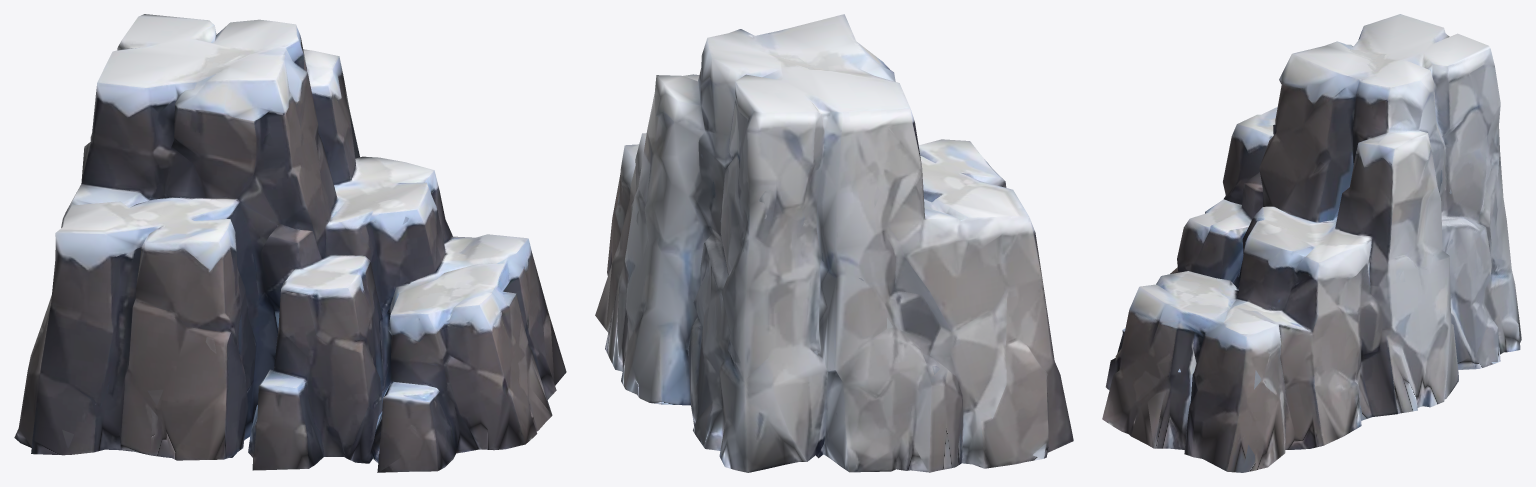
File: cliff_mesa_snow.glb
3 renders of one model, left to right at view 1: azimuth 30°, elevation 25°; view 2: azimuth 150°, elevation 25°; view 3: azimuth 270°, elevation 25°, orthographic. The views are drawn at different scales.
Parts seen in each view (by area): view 1: BakeLow; view 2: BakeLow; view 3: BakeLow.
Boxes of the visible parts, x1,y1,x2,y2 form: BakeLow: (14,14,566,472); BakeLow: (595,14,1073,472); BakeLow: (1102,14,1521,472).
Size of the model in its own units: 0.9399 by 0.626 by 0.7637.
Materials: 1 (1 with a texture image).
